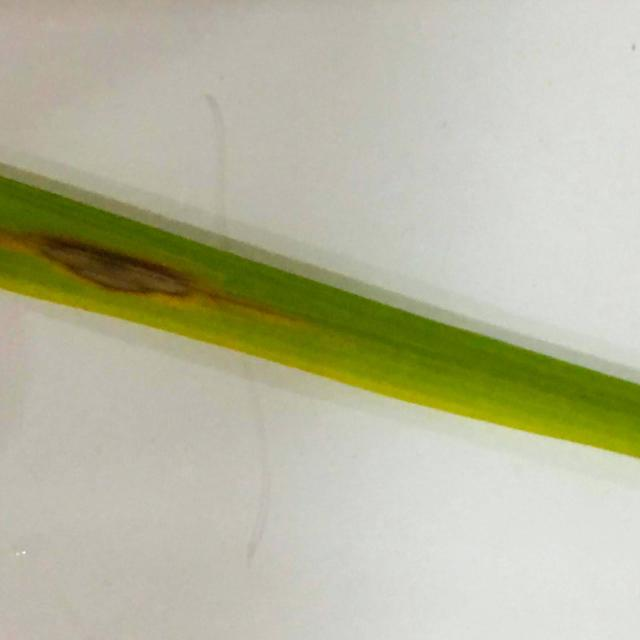Leaf blast: (0, 138, 640, 507)
